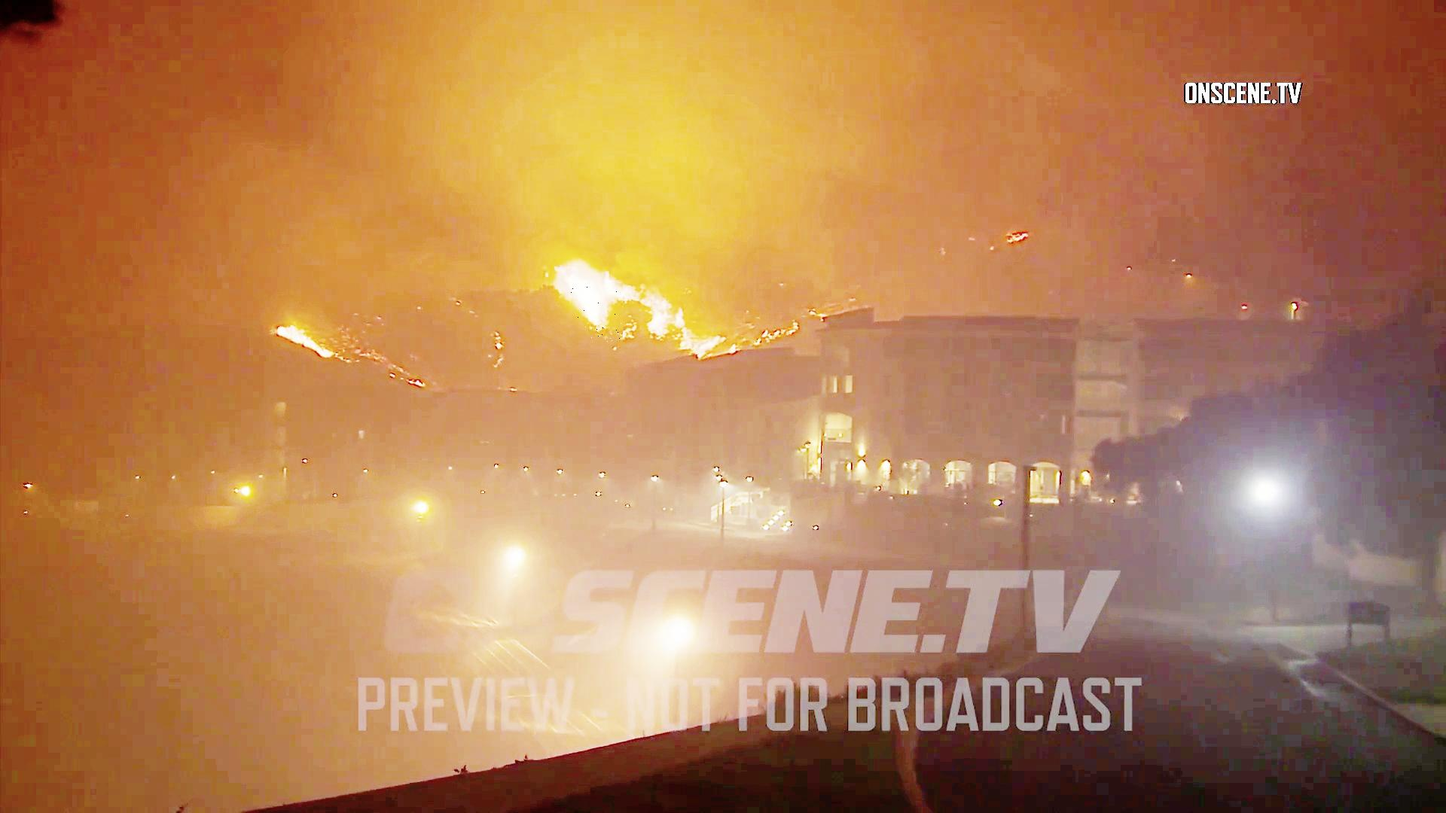fire: (571, 281, 623, 342)
